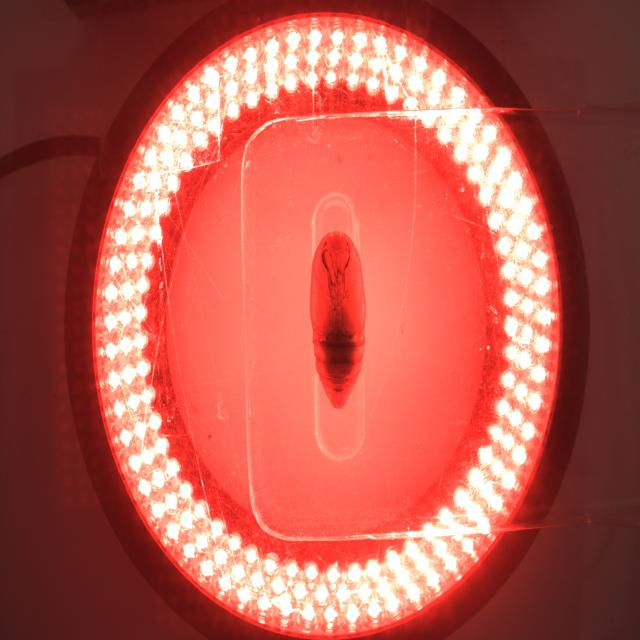male: (333, 386, 345, 395)
